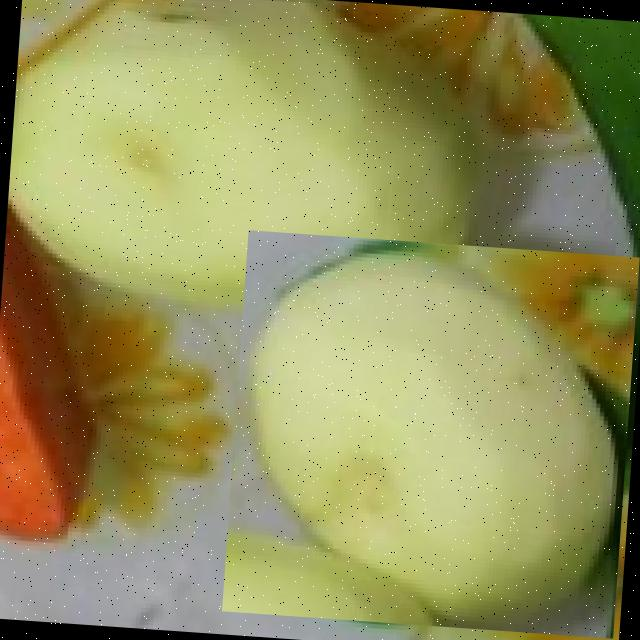Potato: (222, 230, 640, 638), (1, 0, 497, 332)
